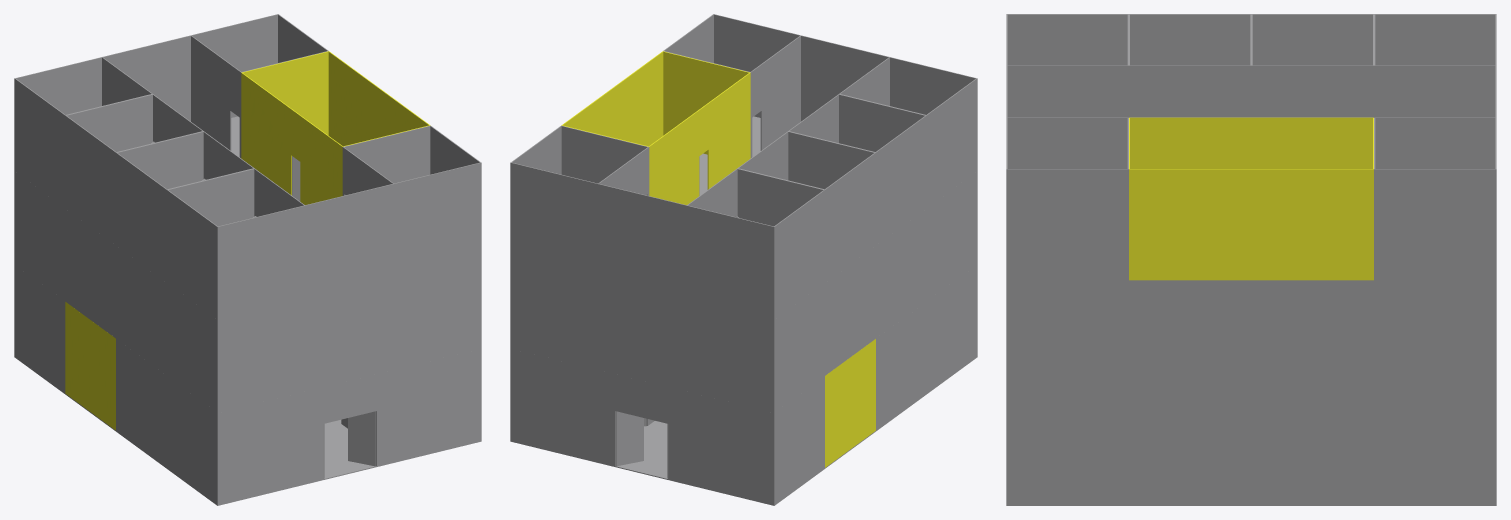
The model's file is 第二组.glb.
The picture shows the model from 3 angles, left to right: view 1: azimuth 30°, elevation 25°; view 2: azimuth 150°, elevation 25°; view 3: azimuth 270°, elevation 25°; orthographic projection. The views are drawn at different scales.
Size of the model in its own units: 0.015 by 0.0151 by 0.02.
